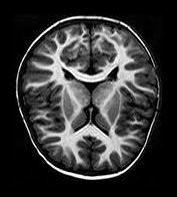Normal_Brain: (8, 1, 177, 197)
